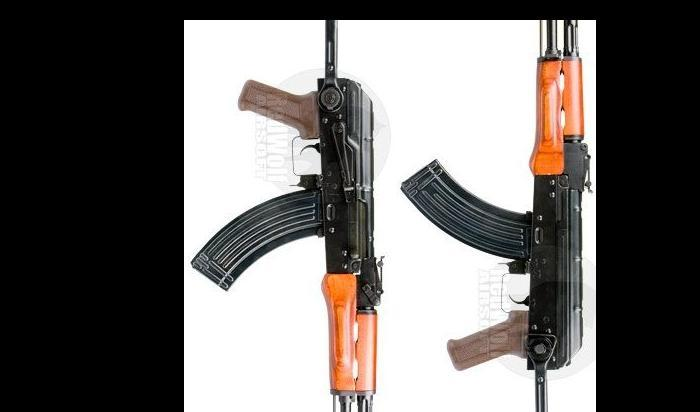larga: (189, 21, 385, 412), (399, 19, 594, 412)
